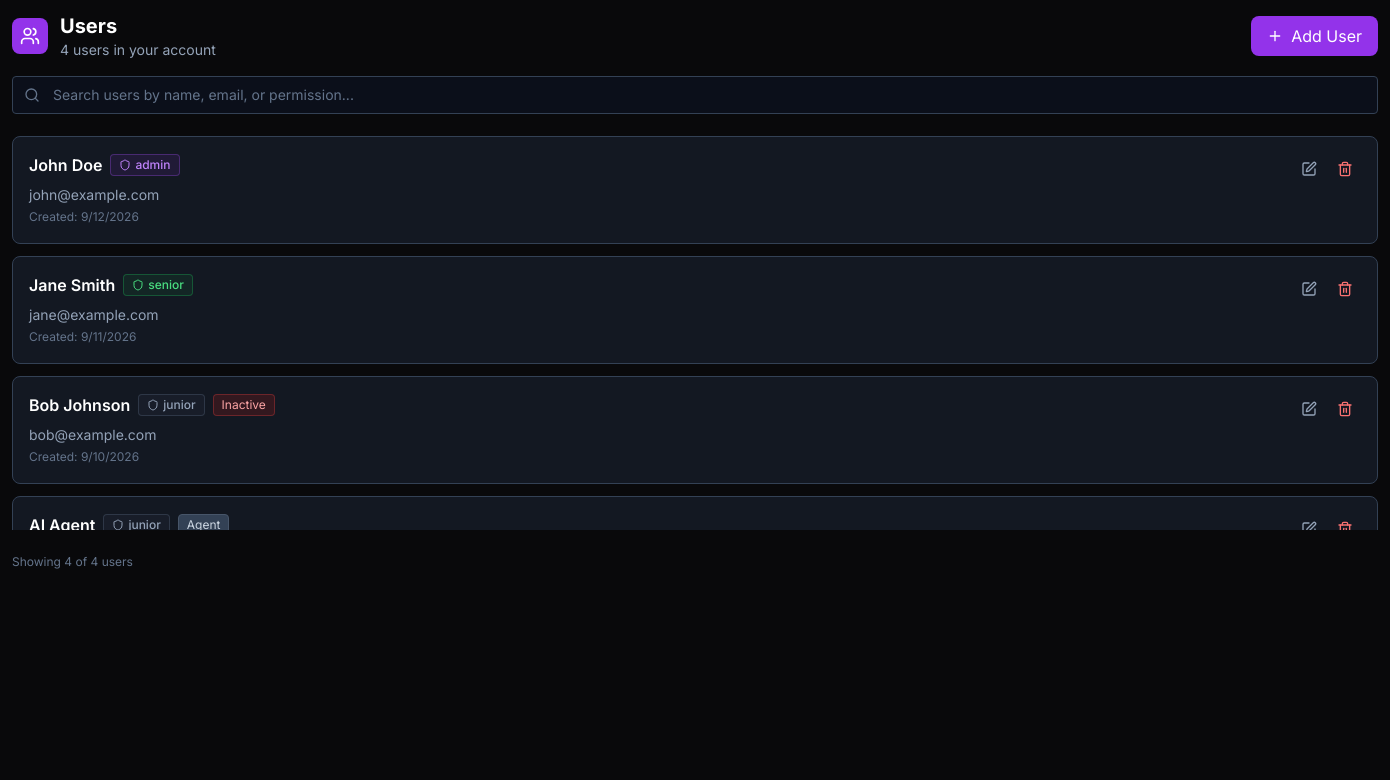
Test: UsersListCard › Search and Filter › should filter users by name
Expected: the heading "John Doe" is shown, [29,153,102,177]
// Type in search box — use 'Doe' not 'John' because 'John' also matches 'Johnson'
Type "Doe" into the field with placeholder "Search users by name, email, or permission...".
click(695, 95); type("Doe")  # box [12,76,1378,114]
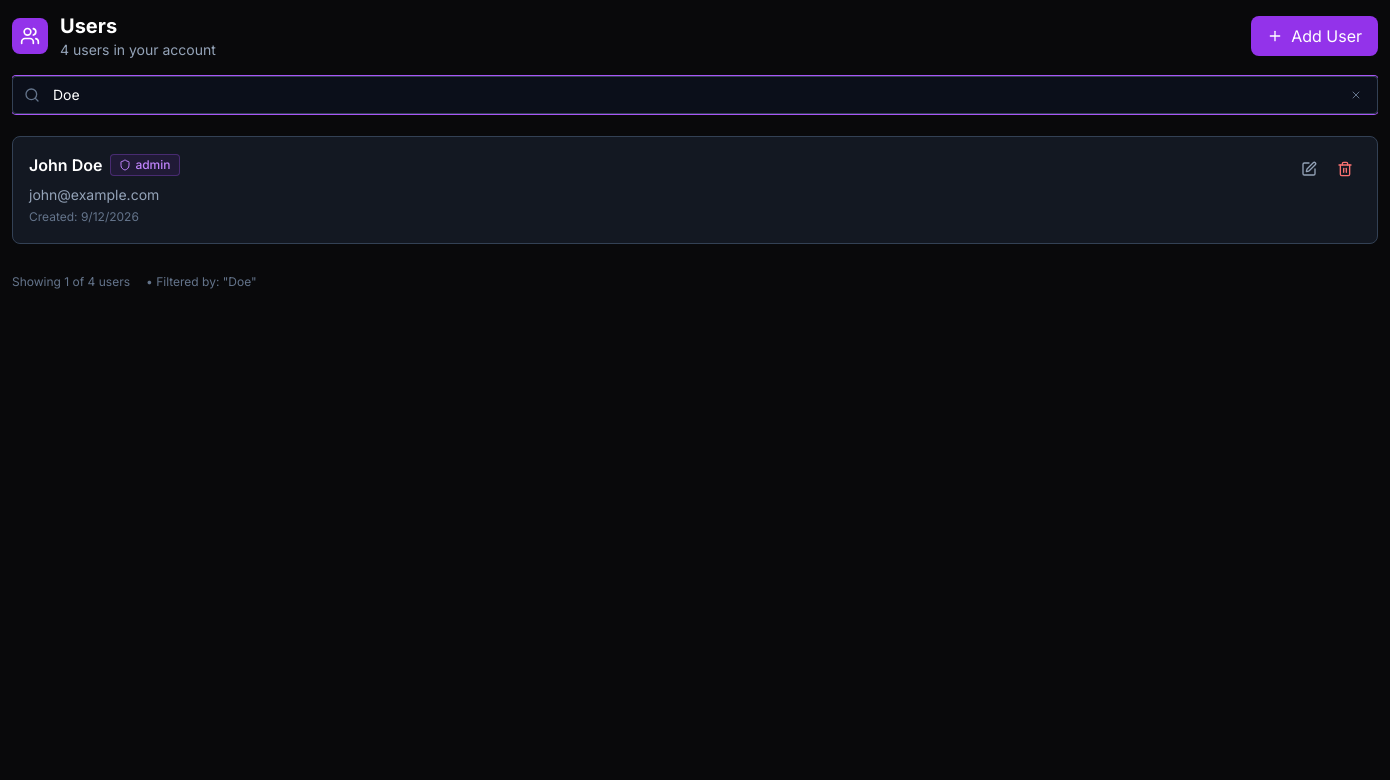
Expected: the heading "John Doe" is shown, [29,153,102,177]
Now the heading "Jane Smith" is gone
Now the heading "Bob Johnson" is gone
